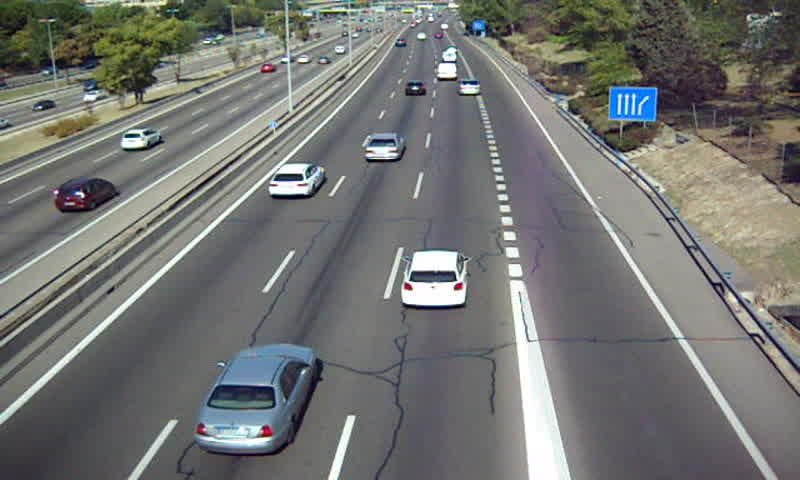car: (196, 344, 318, 455), (401, 250, 468, 307), (266, 165, 324, 198), (365, 132, 405, 162), (458, 78, 483, 98), (404, 81, 428, 97)
van: (436, 62, 458, 80), (444, 50, 458, 62)
